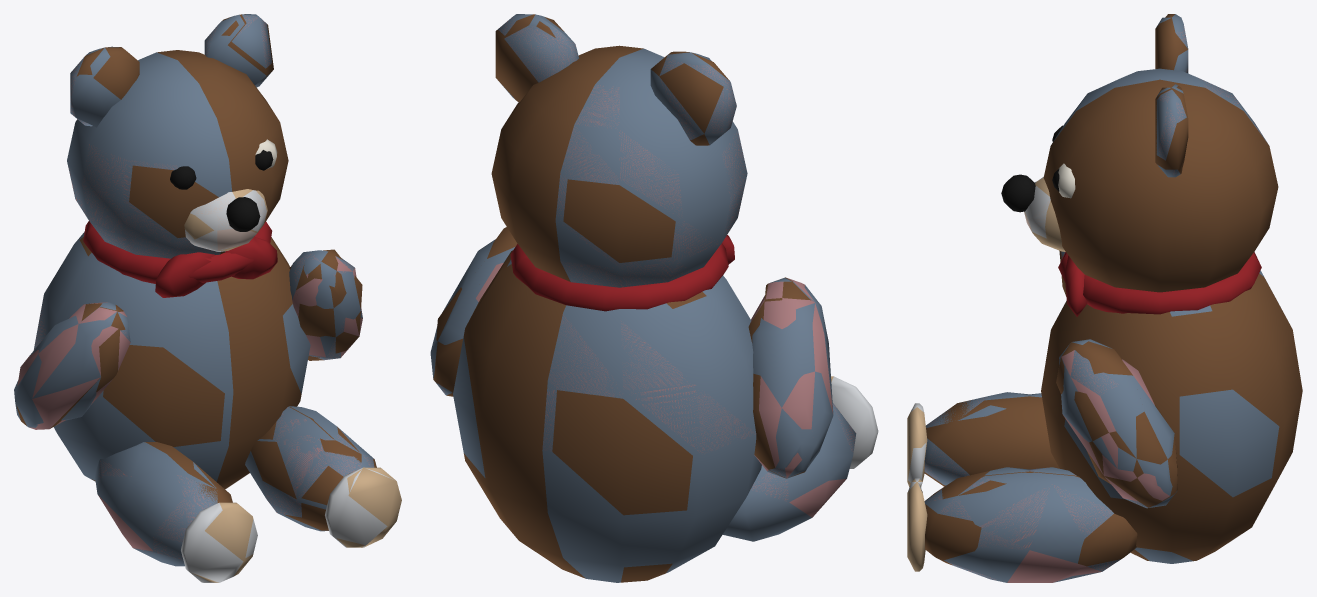
The model's file is plush.glb.
The picture shows the model from 3 angles, left to right: view 1: azimuth 30°, elevation 25°; view 2: azimuth 150°, elevation 25°; view 3: azimuth 270°, elevation 25°; orthographic projection. The views are drawn at different scales.
Parts seen in each view (by area): view 1: bear_blue, bear_brown, bear_pink; view 2: bear_blue, bear_brown, bear_pink; view 3: bear_brown, bear_blue, bear_pink.
Part boxes in pixels (left/top/right/bottom): bear_blue: left=14, top=14, right=393, bottom=582; bear_brown: left=16, top=14, right=401, bottom=582; bear_pink: left=17, top=15, right=373, bottom=559; bear_blue: left=430, top=14, right=878, bottom=582; bear_brown: left=433, top=14, right=833, bottom=582; bear_pink: left=440, top=17, right=855, bottom=517; bear_brown: left=907, top=14, right=1302, bottom=571; bear_blue: left=908, top=14, right=1287, bottom=582; bear_pink: left=924, top=27, right=1263, bottom=582.
Size of the model in its own units: 0.3476 by 0.4645 by 0.3339.
